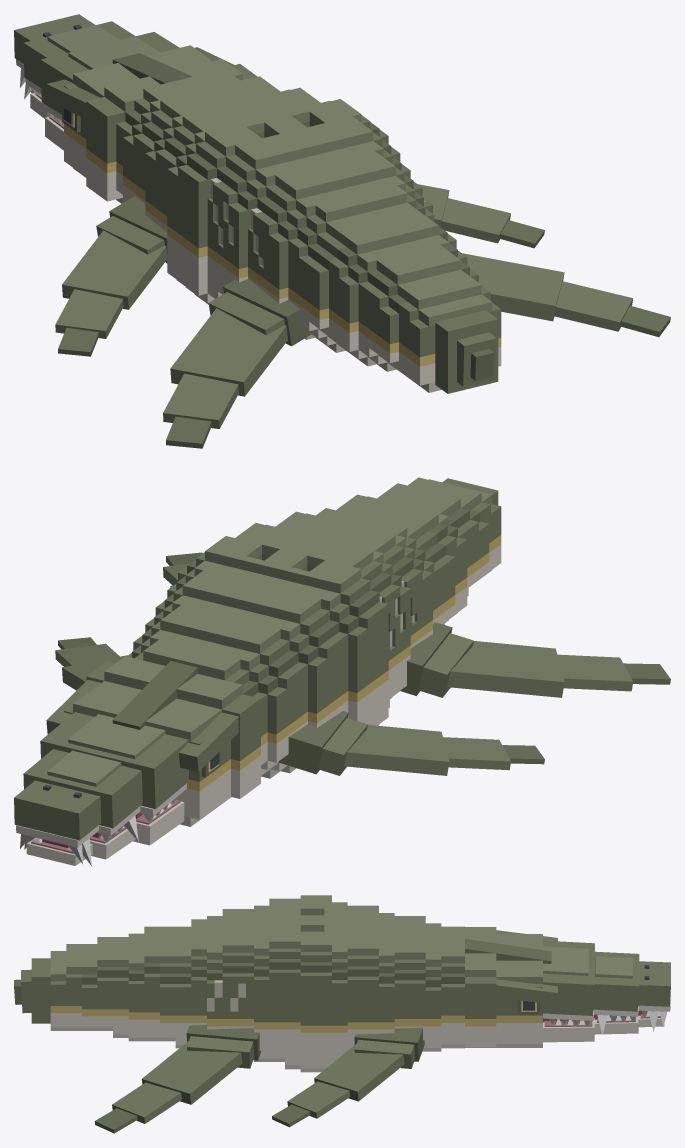
File: Kronosaurus.glb
3 renders of one model, top to bottom at view 1: azimuth 30°, elevation 25°; view 2: azimuth 150°, elevation 25°; view 3: azimuth 270°, elevation 25°, orthographic. The views are drawn at different scales.
Visible parts, largest first — view 1: Body, Head, Hip, FlipperBL, T3, FlipperFL, T1, T2, FlipperBR, FlipperFR, Neck, Jaw; view 2: Body, Head, FlipperBL, FlipperFL, Hip, T1, T2, T3, Neck, Jaw, FlipperFR, FlipperBR; view 3: Body, Head, FlipperBR, Hip, FlipperFR, T3, T1, T2, Neck, Jaw.
Boxes of the visible parts, x1,y1,x2,y2 form: Body: (123,76,410,304); Head: (14,14,257,203); Hip: (248,151,434,344); FlipperBL: (163,279,311,448); T3: (379,269,501,393); FlipperFL: (55,196,167,356); T1: (299,202,456,358); T2: (339,235,478,371); FlipperBR: (462,253,670,337); FlipperFR: (417,184,544,248); Neck: (116,69,239,194); Jaw: (30,89,63,150); Body: (127,523,410,778); Head: (14,656,260,865); FlipperBL: (400,622,670,697); FlipperFL: (278,711,544,775); Hip: (275,508,434,648); T1: (336,494,456,624); T2: (367,483,478,622); T3: (408,477,501,586); Neck: (135,639,267,764); Jaw: (26,799,184,865); FlipperFR: (55,637,127,690); FlipperBR: (163,552,202,587); Body: (254,895,441,1072); Head: (465,927,670,1047); FlipperBR: (94,1025,261,1133); Hip: (191,909,253,1029); FlipperFR: (272,1027,424,1127); T3: (14,944,97,1030); T1: (144,926,191,1048); T2: (97,933,144,1041); Neck: (441,926,464,1048); Jaw: (543,1011,664,1042).
Size of the model in its own units: 27.94 by 9 by 42.02.
